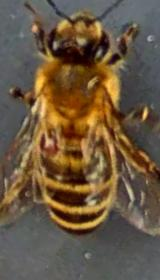varroa_mite: (31, 122, 65, 157)
